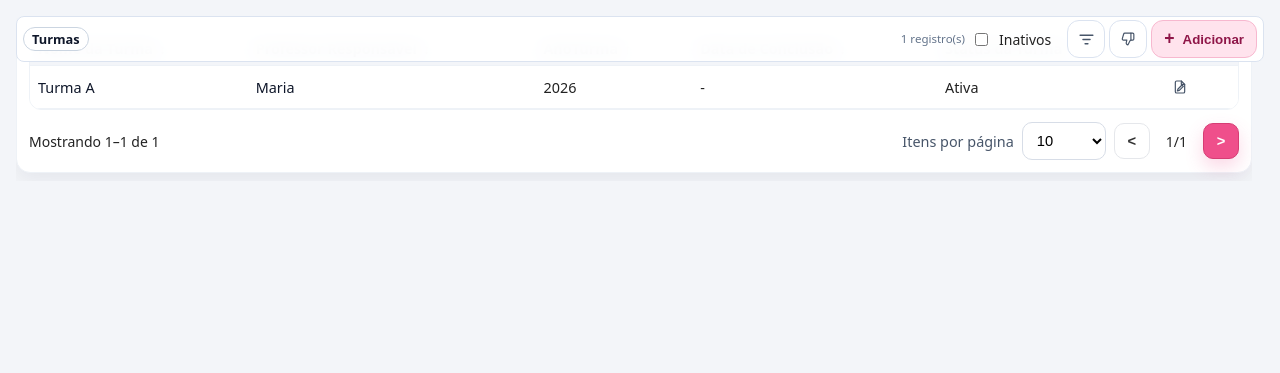
Segunda fatia das listagens › Turmas abre pelo ícone já em modo editável
Click the button named "Detalhes" at [1180, 87], box x1=1166 y1=73 x2=1194 y2=101
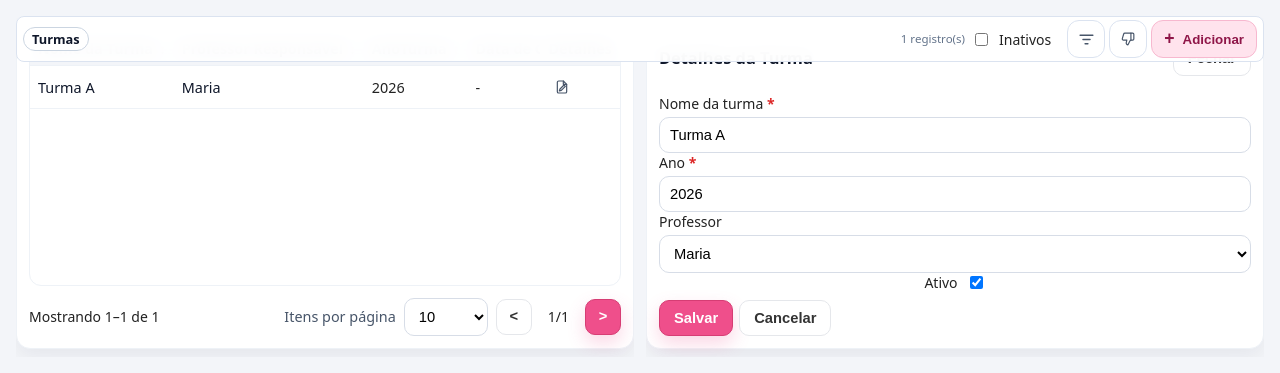
Check: the heading "Detalhes da Turma" is shown, box x1=659 y1=47 x2=813 y2=69
Check: the 1st field is enabled, box x1=659 y1=117 x2=1251 y2=153
